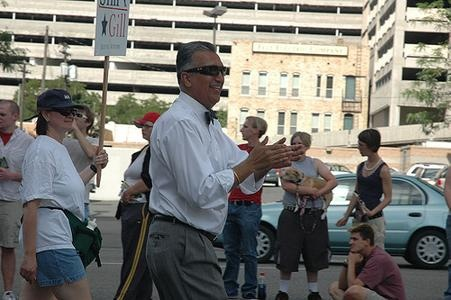person without safety: (144, 38, 234, 300), (16, 87, 87, 300), (337, 125, 395, 232), (331, 224, 406, 300)
